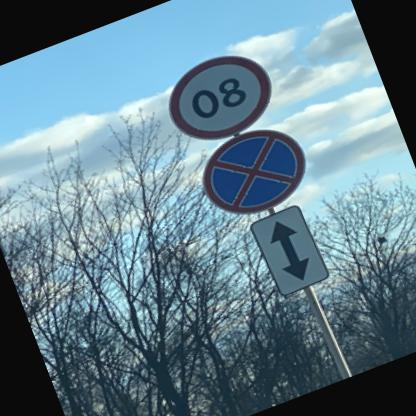speedlimit: (158, 38, 286, 150)
